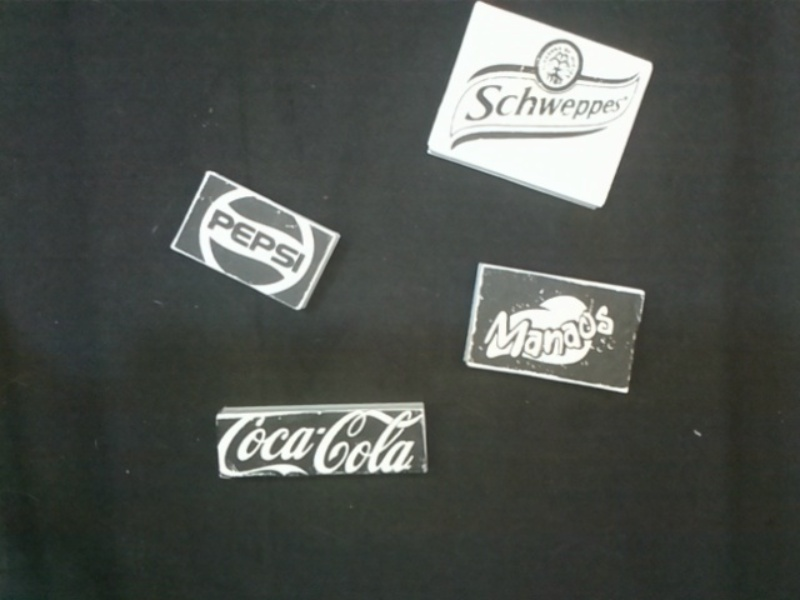coca-cola: (212, 403, 429, 475)
manaos: (465, 261, 640, 396)
pepsi: (172, 169, 342, 313)
schweppes: (444, 4, 648, 202)
